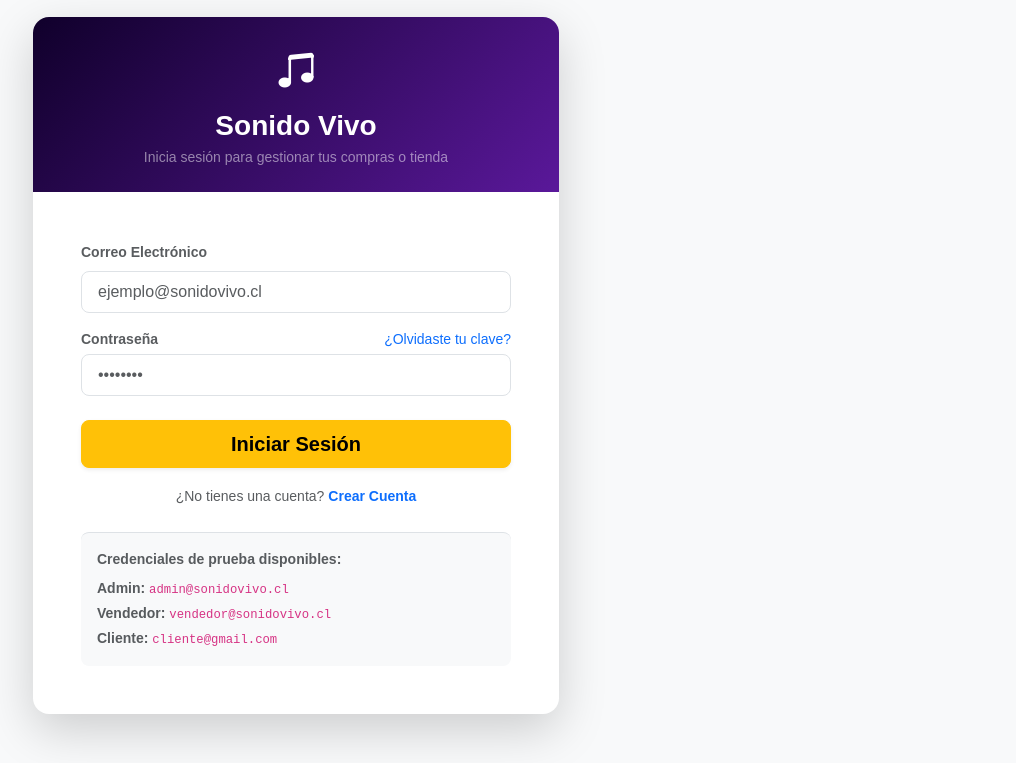
Pruebas Unitarias: Página de Login e Interacción de Usuario › 10. Login: muestra error cuando se envía el formulario vacío
Click the button "Iniciar Sesión" at {"x": 296, "y": 444}, box [81, 420, 511, 468]
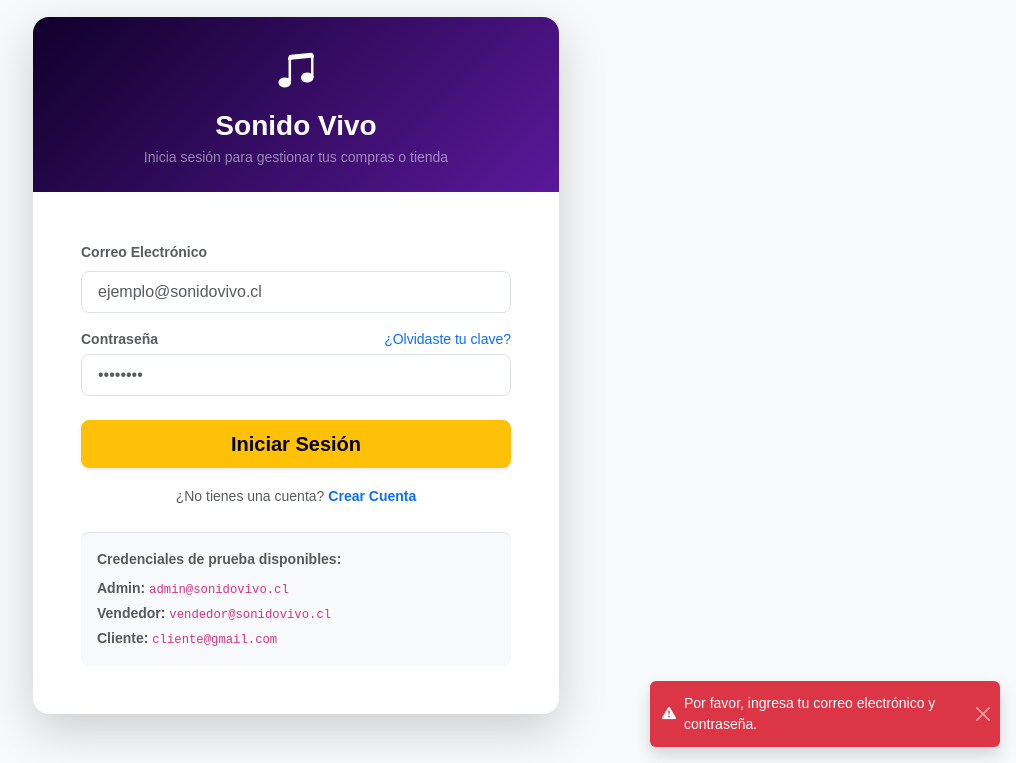
Check: the text "Por favor, ingresa tu correo electrónico y contraseña." is shown, box [684, 693, 961, 735]
